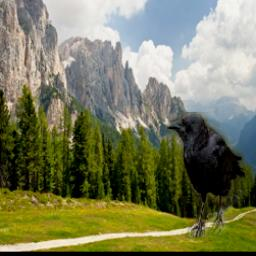Crow: (165, 113, 245, 239)
